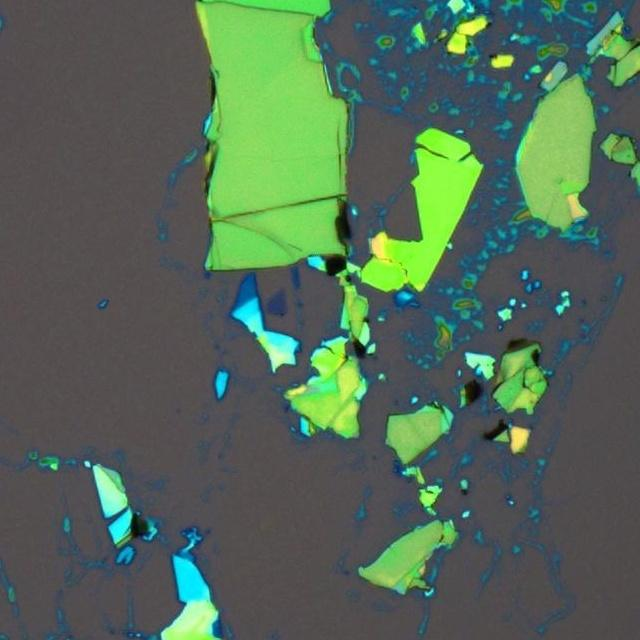monolayer-eWW4: (265, 288, 287, 316)
